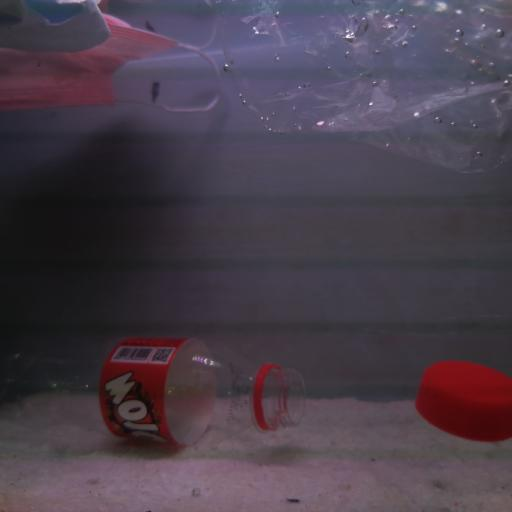bottle_cap: (418, 360, 512, 443)
mask: (0, 19, 218, 114), (2, 0, 112, 66)
plastic_bag: (218, 1, 512, 179)
plastic_bottle: (5, 338, 306, 451)
